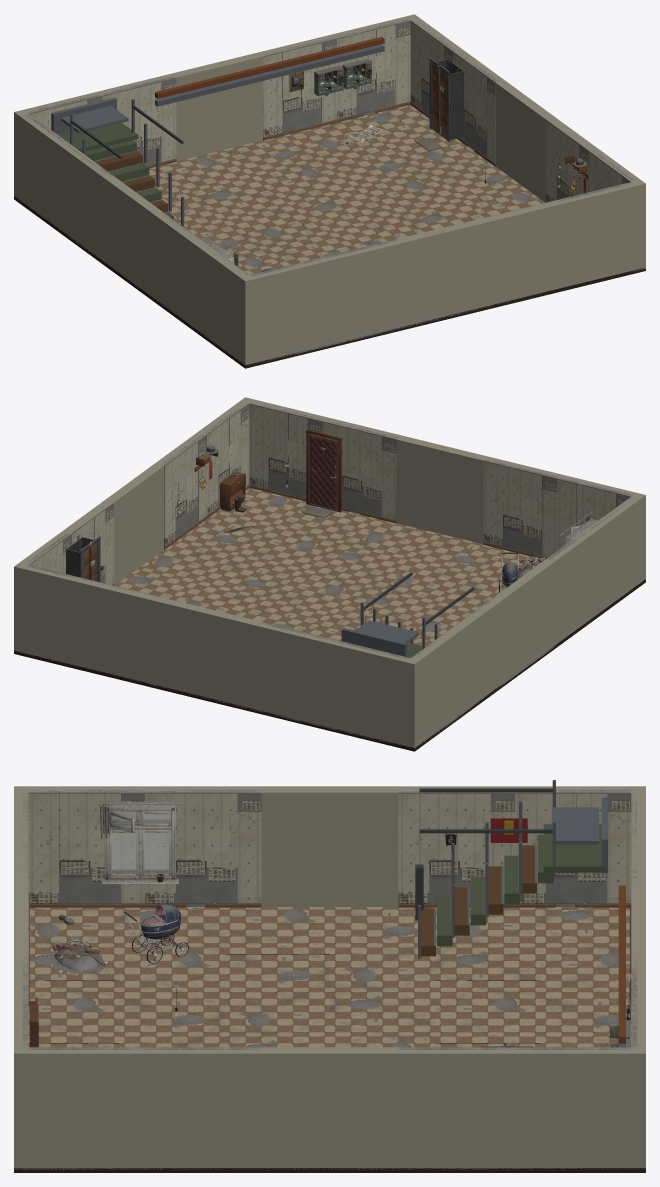
Rendered from room_stairwell_up_decorated.glb.
The picture shows the model from 3 angles, top to bottom: view 1: azimuth 30°, elevation 25°; view 2: azimuth 150°, elevation 25°; view 3: azimuth 270°, elevation 25°; orthographic projection. The views are drawn at different scales.
Visible parts, largest first — view 1: Wall_S_A, Wall_S_B, Wall_W_A, Wall_W_B, Plug_S, Plug_N, NoCol_Wallpaper_N3, NoCol_Wallpaper_N2, Plug_W, Plug_E, NoCol_Wallpaper_N1, NoCol_Wallpaper_E2 (+43 smaller); view 2: Wall_N_A, Wall_N_B, Wall_W_B, Wall_W_A, Plug_N, Plug_S, NoCol_Wallpaper_S1, NoCol_Wallpaper_S3, NoCol_Wallpaper_S2, Plug_W, Plug_E, NoCol_Wallpaper_E1 (+37 smaller); view 3: Wall_E_A, Wall_E_B, Plug_E, Plug_W, NoCol_Wallpaper_W1, NoCol_Wallpaper_W0, NoCol_Wallpaper_W2, NoCol_Wallpaper_W3, NoCol_Window, NoCol_FloorTile_12, NoCol_FloorTile_24, NoCol_FloorTile_22 (+49 smaller).
Boxes of the visible parts, x1,y1,x2,y2 form: Wall_S_A: [240, 239, 402, 364]; Wall_S_B: [484, 179, 645, 305]; Wall_W_A: [154, 213, 247, 360]; Wall_W_B: [19, 113, 109, 261]; Plug_S: [402, 232, 488, 326]; Plug_N: [176, 73, 262, 160]; NoCol_Wallpaper_N3: [335, 19, 410, 119]; NoCol_Wallpaper_N2: [261, 37, 336, 137]; Plug_W: [104, 189, 154, 298]; Plug_E: [496, 93, 545, 202]; NoCol_Wallpaper_N1: [101, 76, 176, 171]; NoCol_Wallpaper_E2: [453, 51, 499, 163]; Wall_N_A: [257, 623, 419, 747]; Wall_N_B: [14, 562, 175, 688]; Wall_W_B: [411, 596, 505, 743]; Wall_W_A: [550, 496, 640, 644]; Plug_N: [171, 615, 257, 709]; Plug_S: [397, 450, 483, 543]; NoCol_Wallpaper_S1: [483, 459, 558, 557]; NoCol_Wallpaper_S3: [249, 402, 324, 497]; NoCol_Wallpaper_S2: [323, 420, 398, 520]; Plug_W: [505, 572, 555, 681]; Plug_E: [114, 476, 163, 585]; NoCol_Wallpaper_E1: [160, 434, 206, 546]; Wall_E_A: [28, 1048, 261, 1167]; Wall_E_B: [398, 1047, 631, 1167]; Plug_E: [261, 1068, 398, 1167]; Plug_W: [261, 807, 398, 906]; NoCol_Wallpaper_W1: [145, 790, 261, 906]; NoCol_Wallpaper_W0: [28, 790, 144, 903]; NoCol_Wallpaper_W2: [398, 790, 514, 903]; NoCol_Wallpaper_W3: [515, 790, 631, 906]; NoCol_Window: [97, 801, 183, 884]; NoCol_FloorTile_12: [224, 945, 329, 989]; NoCol_FloorTile_24: [435, 990, 540, 1034]; NoCol_FloorTile_22: [224, 990, 329, 1034].
Size of the model in its own units: 12 by 2.96 by 12.
35 materials, 19 textured.
